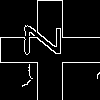Z: (25, 25, 70, 55)
